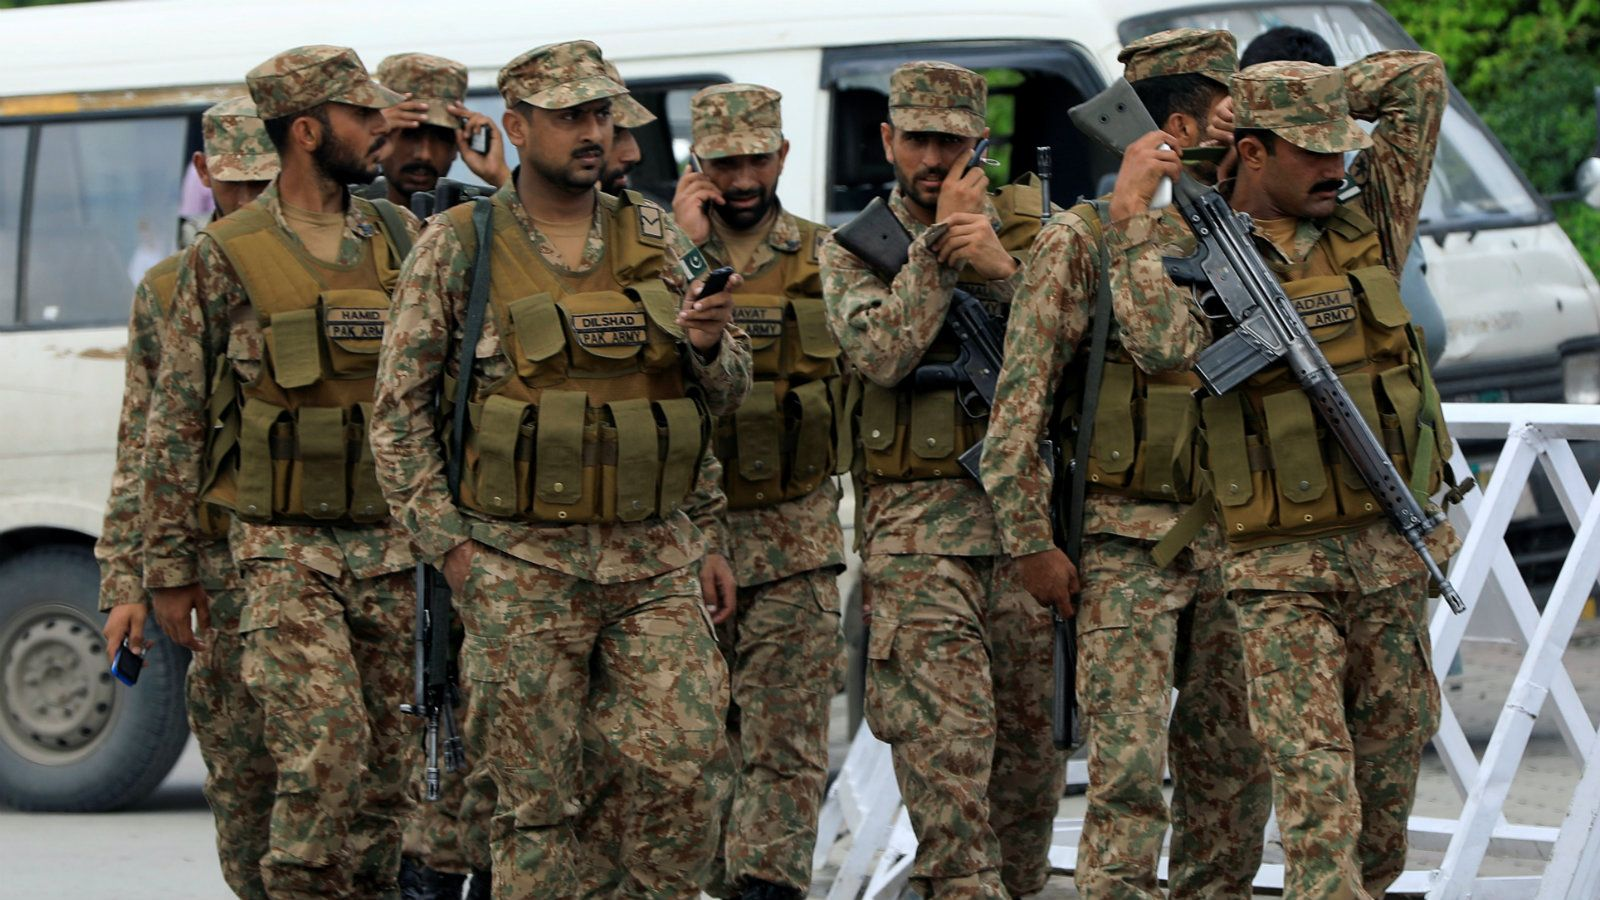gun: (1060, 68, 1469, 622), (829, 171, 1073, 521), (377, 385, 471, 799)
uniform: (1002, 140, 1299, 882), (408, 175, 722, 863), (1165, 135, 1453, 873), (821, 126, 1085, 838), (195, 162, 426, 870), (640, 170, 846, 865)
